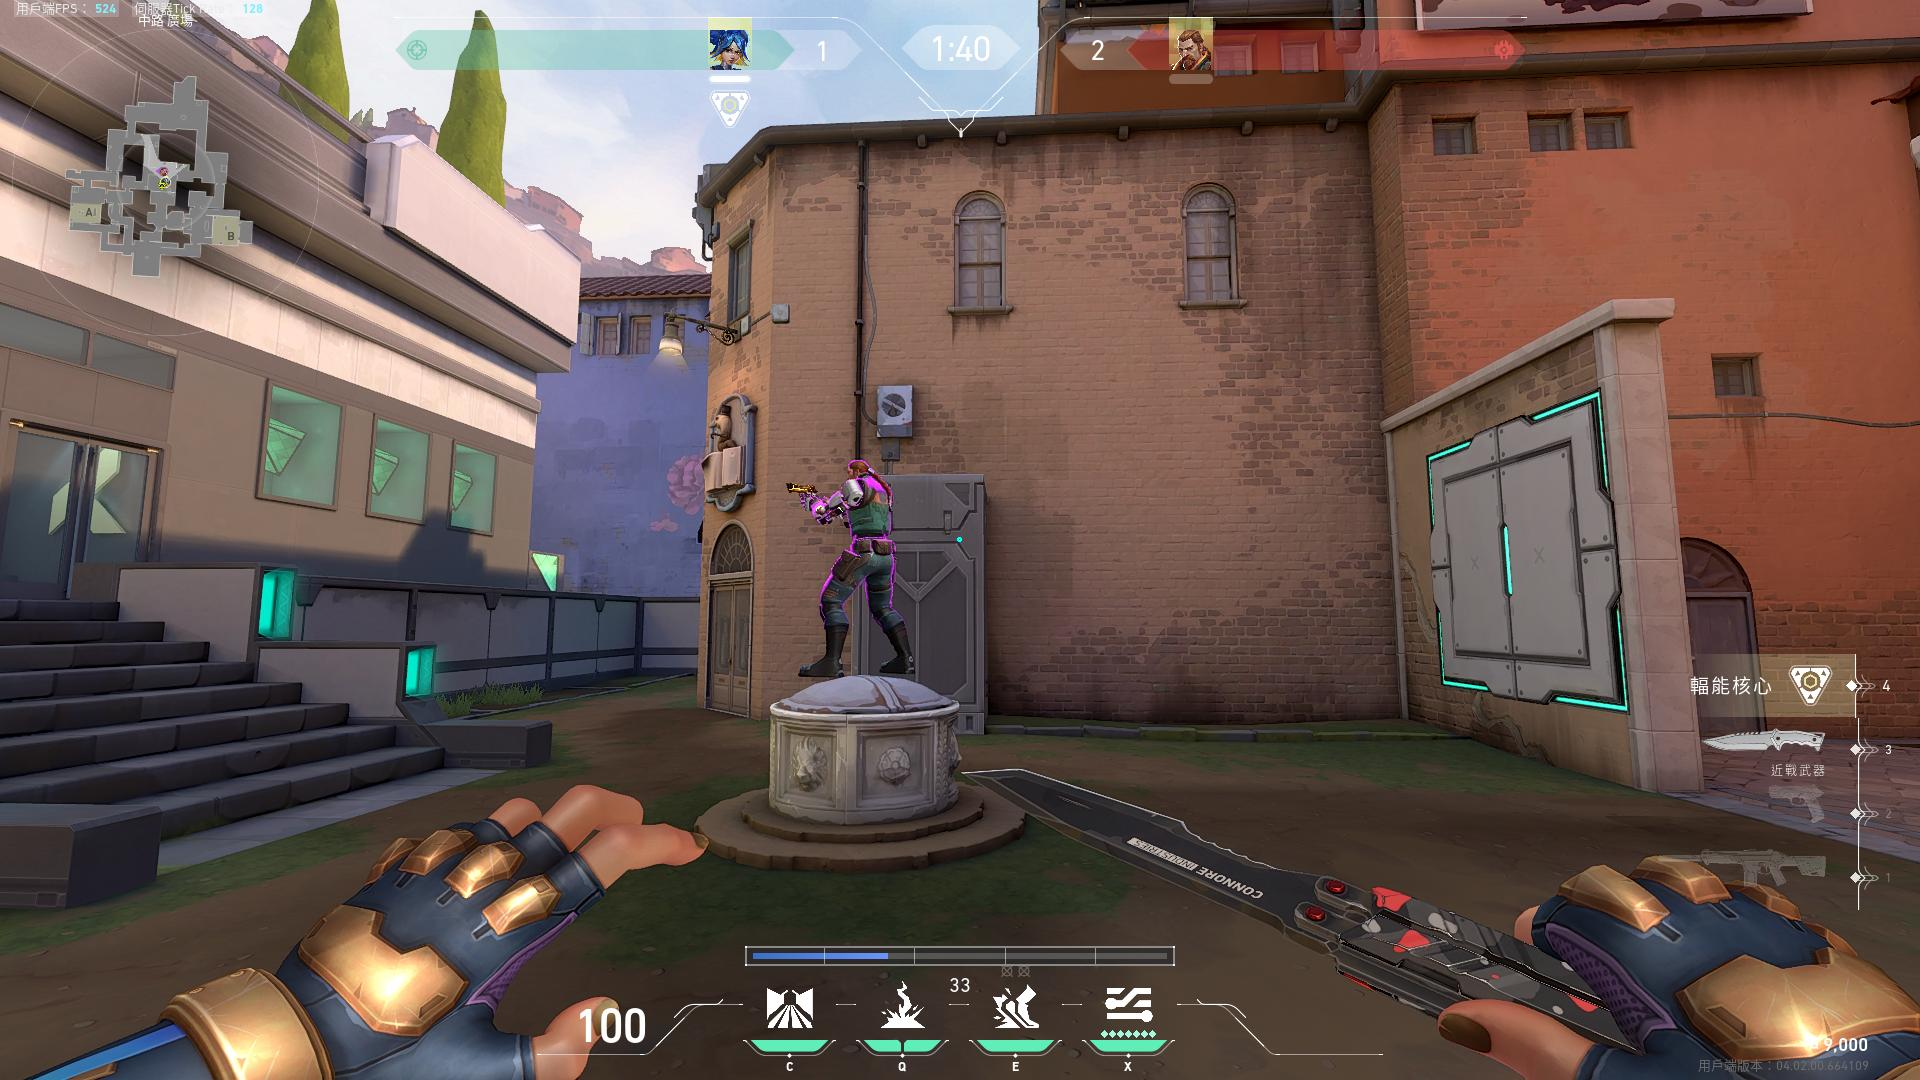enemyBody: (858, 491, 887, 530)
enemyHead: (848, 462, 877, 483)
